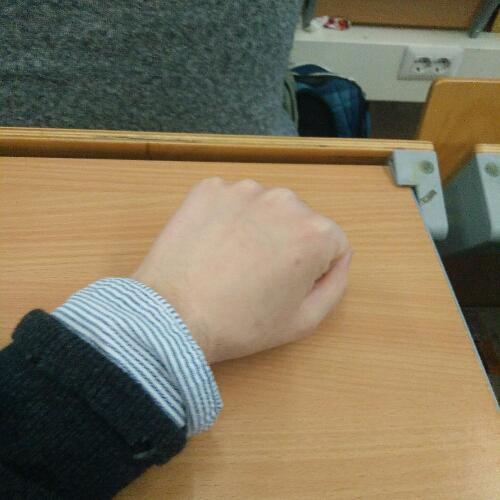rock: (132, 170, 362, 355)
